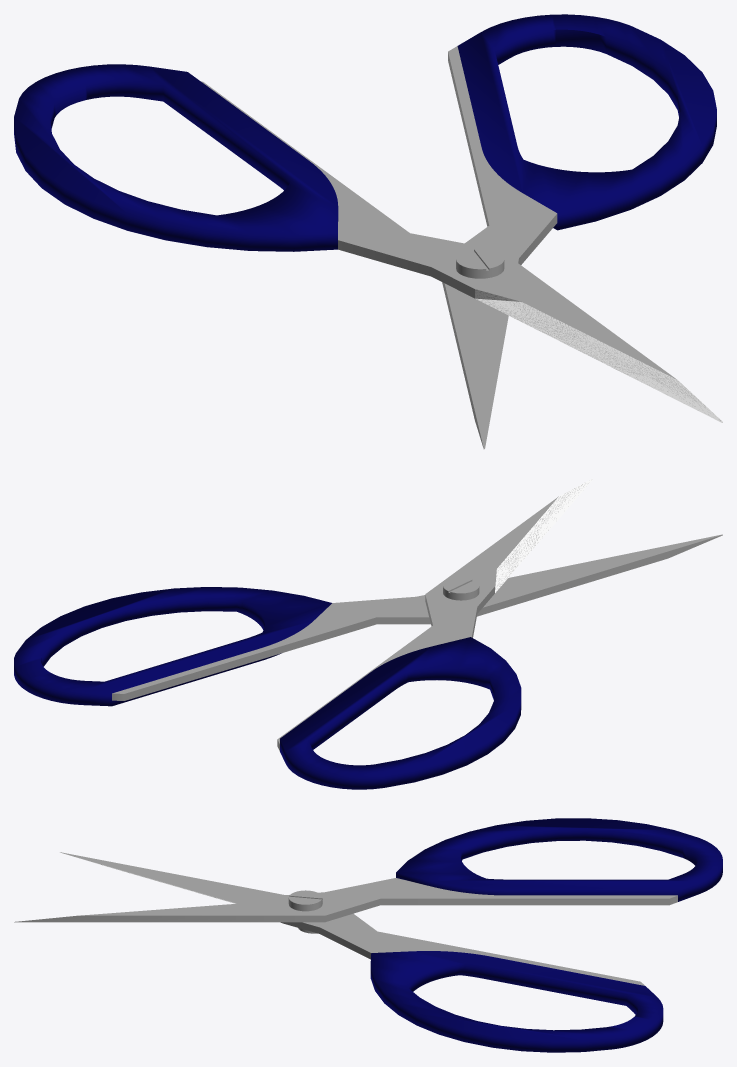
Rendered from scissors_07_origin.dae.
3 views of the same model, one above another, from view 1: azimuth 30°, elevation 25°; view 2: azimuth 150°, elevation 25°; view 3: azimuth 270°, elevation 25° (orthographic). The views are drawn at different scales.
Parts seen in each view (by area): view 1: Component_1 (×9); view 2: Component_1 (×9); view 3: Component_1 (×8).
Boxes of the visible parts, box(x1,y1,x2,y2) form: Component_1 (×9): box(14, 14, 722, 449); Component_1 (×9): box(14, 478, 722, 789); Component_1 (×8): box(14, 818, 722, 1052).
Size of the model in its own units: 5.57 by 7.92 by 0.3264.
